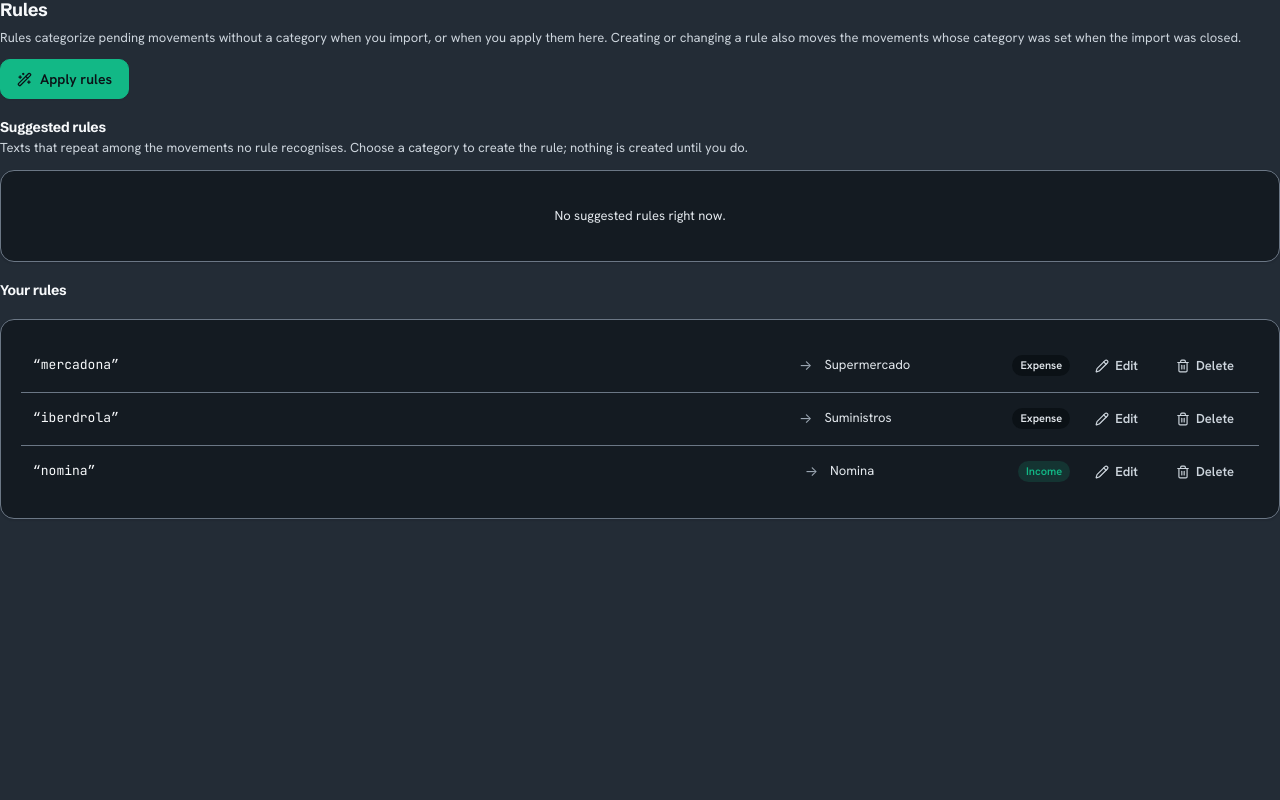
Test case: RulesView (R7, R8, R9, R10) › says in English that a rule was already gone (R9)
The image size is (1280, 800).
Click the button with test id "rule-delete" at (1205, 366), box [1163,350,1247,382]
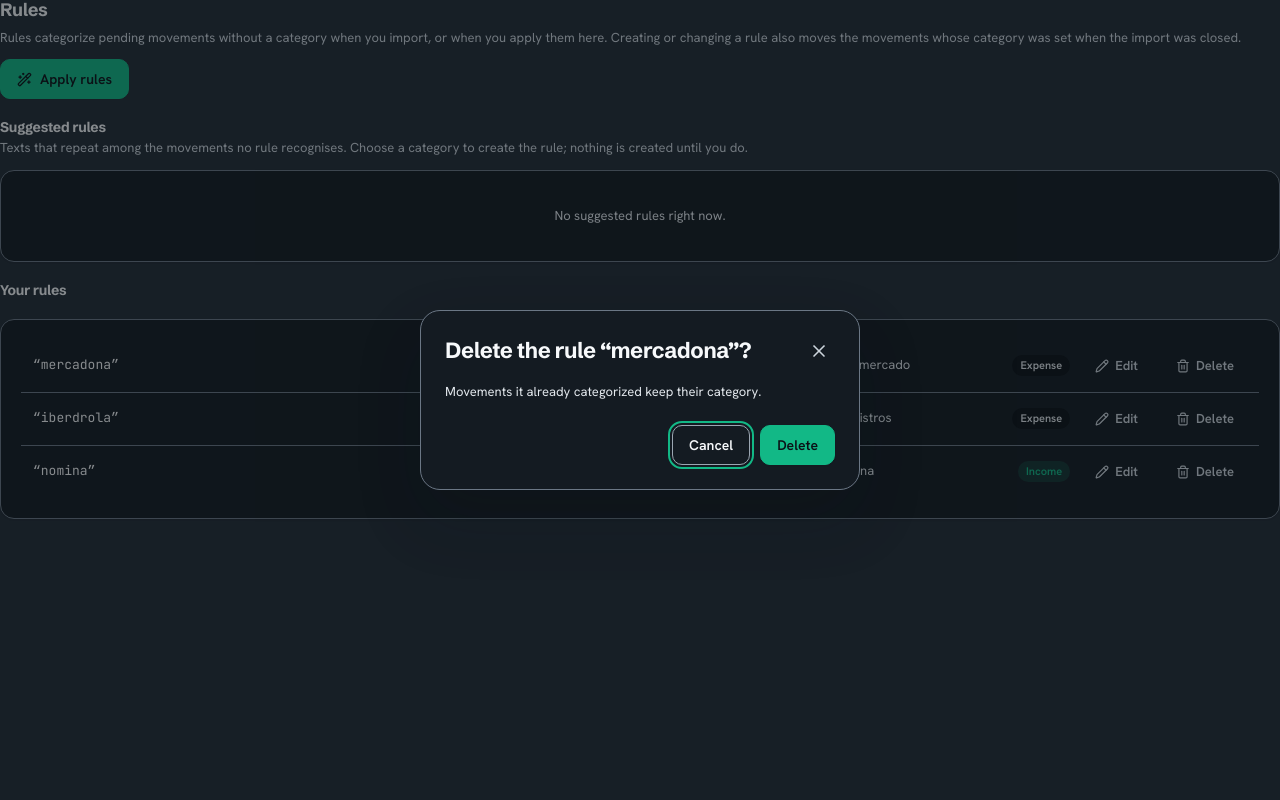
Click the button with test id "delete-confirm" at (798, 445), box [760,425,835,465]
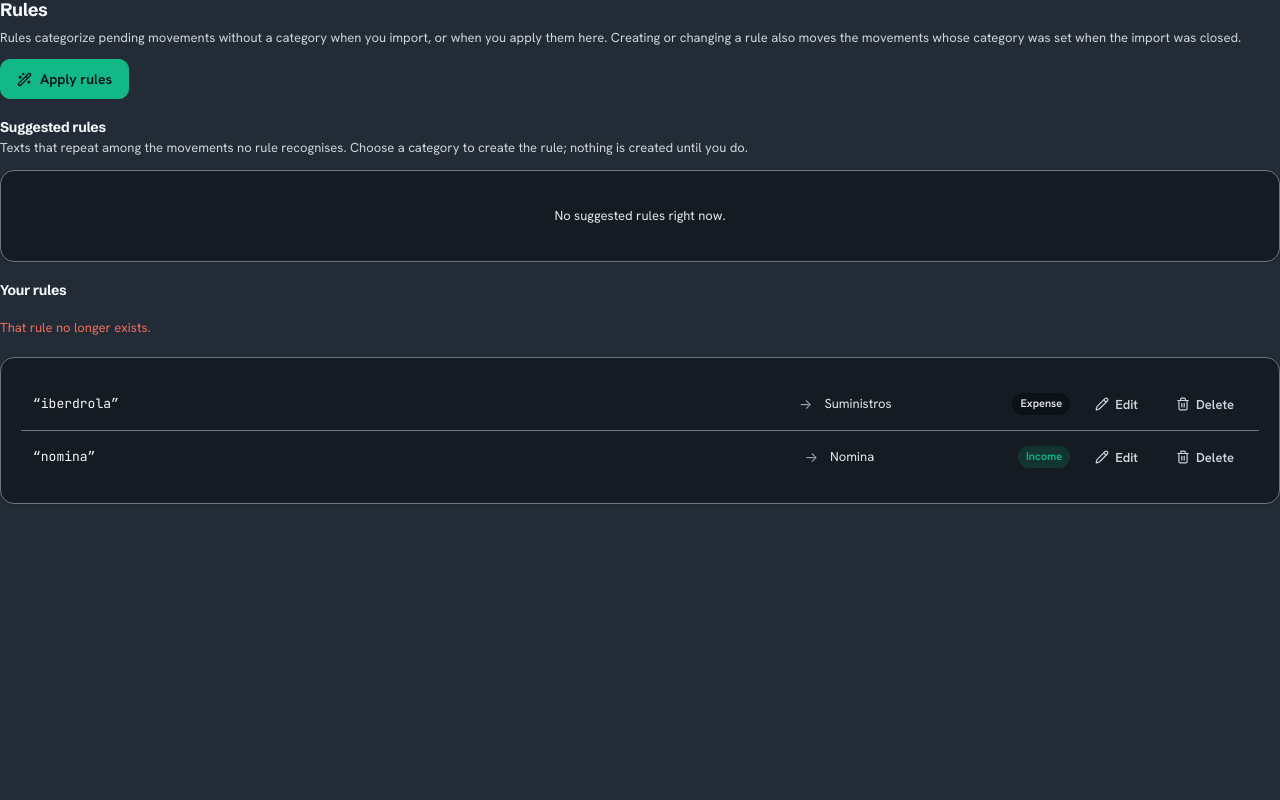
expect the text with test id "rules-delete-message" reads "That rule no longer exists.": met, box [0,319,151,336]
expect the number of list items with test id "rule-row" is 2: met, box [21,378,1259,431]; [21,431,1259,483]
